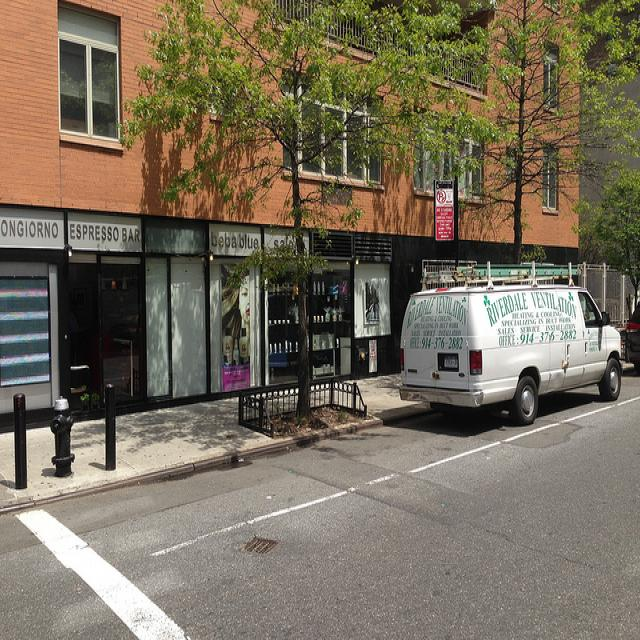Vehicle: (398, 262, 627, 423), (399, 260, 624, 423), (625, 301, 640, 375)
